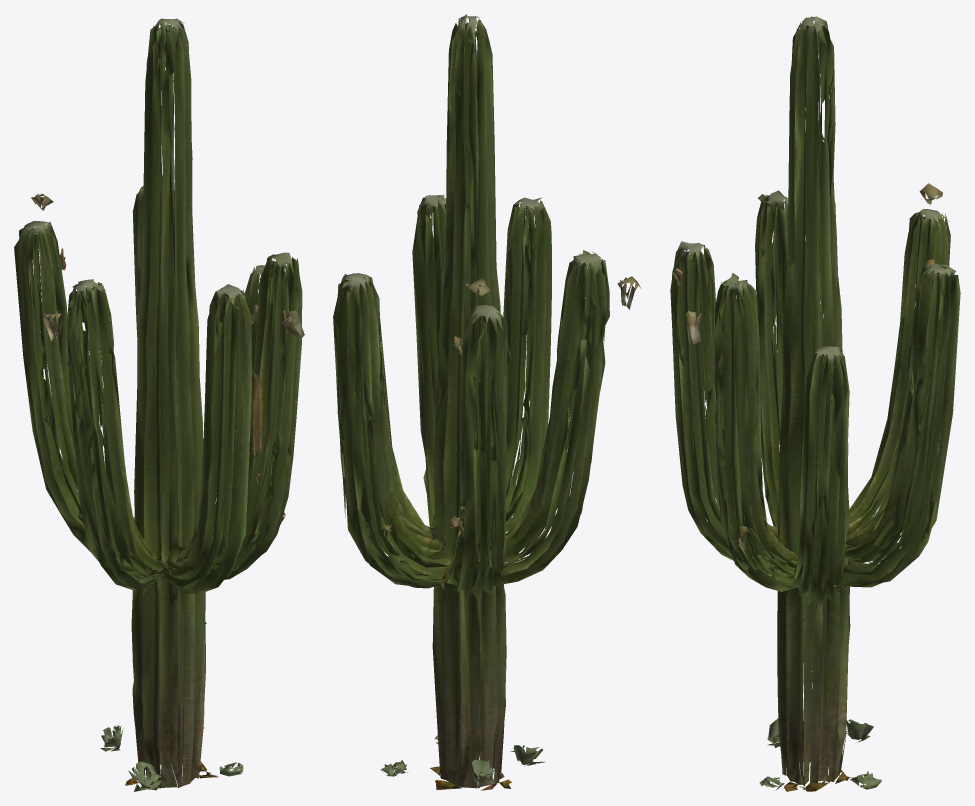
Rendered from cacto_colunar_adulta.glb.
3 renders of one model, left to right at view 1: azimuth 30°, elevation 25°; view 2: azimuth 150°, elevation 25°; view 3: azimuth 270°, elevation 25°, orthographic.
Parts seen in each view (by area): view 1: geometry_0; view 2: geometry_0; view 3: geometry_0.
Part boxes in pixels (x1,y1,x2,y2): geometry_0: [14, 18, 304, 791]; geometry_0: [333, 14, 640, 790]; geometry_0: [670, 16, 960, 791].
Size of the model in its own units: 0.3719 by 1.01 by 0.3471.
1 material, 1 textured.
